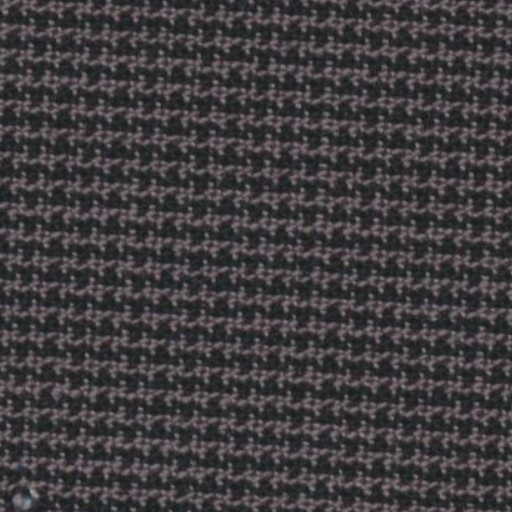PoDong: (0, 470, 70, 510)
